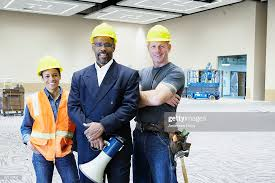Person_wearing_helmet: (88, 17, 122, 48), (144, 20, 178, 51), (33, 54, 64, 78)
